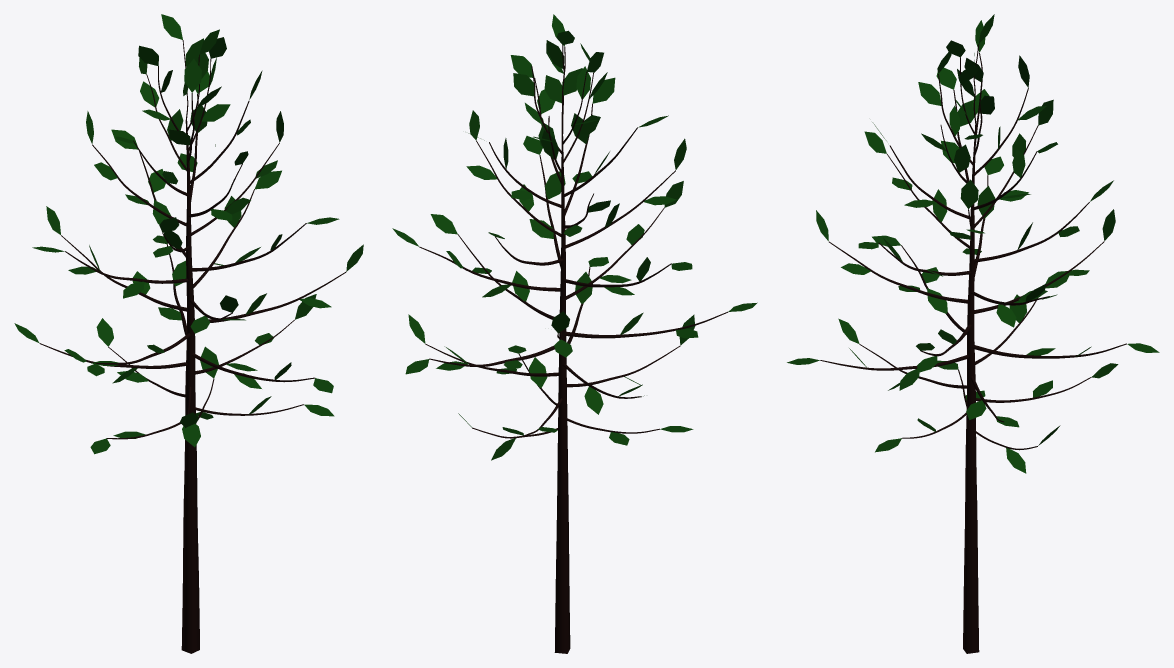
Rendered from Tree.obj.
3 renders of one model, left to right at view 1: azimuth 30°, elevation 25°; view 2: azimuth 150°, elevation 25°; view 3: azimuth 270°, elevation 25°, orthographic.
Visible parts, largest first — view 1: leaves_leaves.001, tree_CUtree.001; view 2: leaves_leaves.001, tree_CUtree.001; view 3: leaves_leaves.001, tree_CUtree.001.
Boxes of the visible parts, x1,y1,x2,y2 form: leaves_leaves.001: (14, 14, 363, 454); tree_CUtree.001: (39, 40, 346, 653); leaves_leaves.001: (392, 14, 757, 460); tree_CUtree.001: (419, 45, 728, 653); leaves_leaves.001: (787, 14, 1159, 473); tree_CUtree.001: (820, 44, 1126, 653).
Size of the model in its own units: 0.9975 by 2.02 by 1.09.
